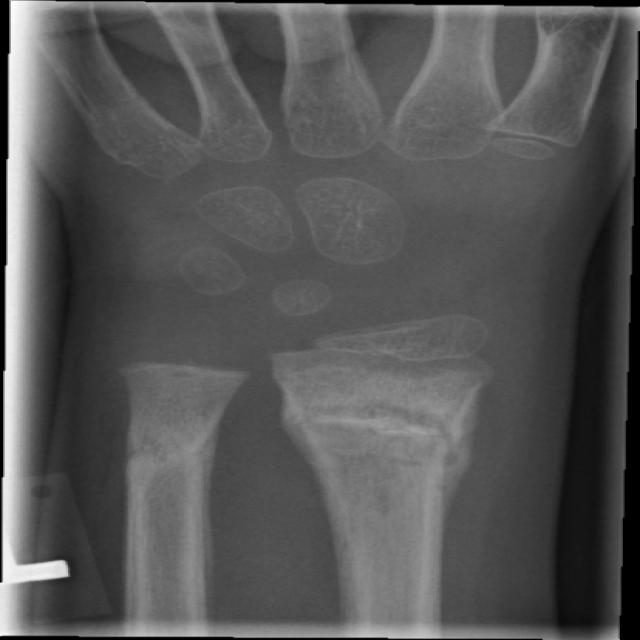radius fracture: (282, 375, 500, 520)
ulna fracture: (103, 409, 240, 513)
